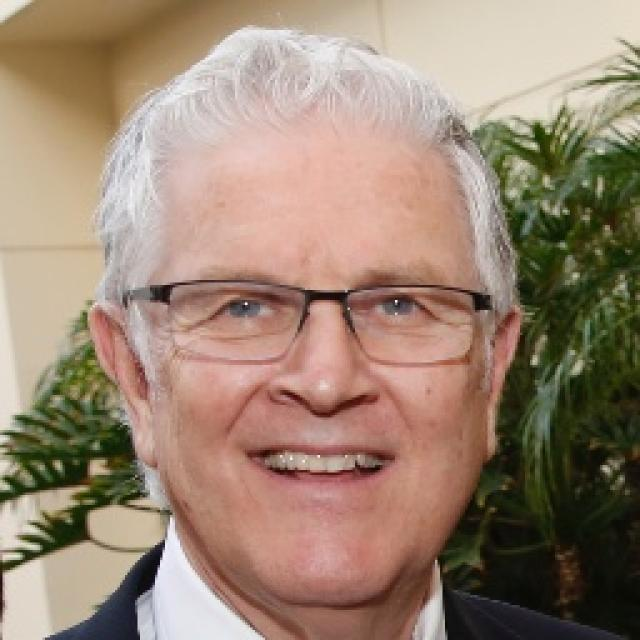earlobe: (129, 401, 161, 470), (481, 390, 502, 462)
eye: (212, 296, 281, 324), (366, 293, 432, 322)
nose: (261, 387, 389, 457)
wholeear: (86, 300, 162, 469), (482, 303, 522, 462)
